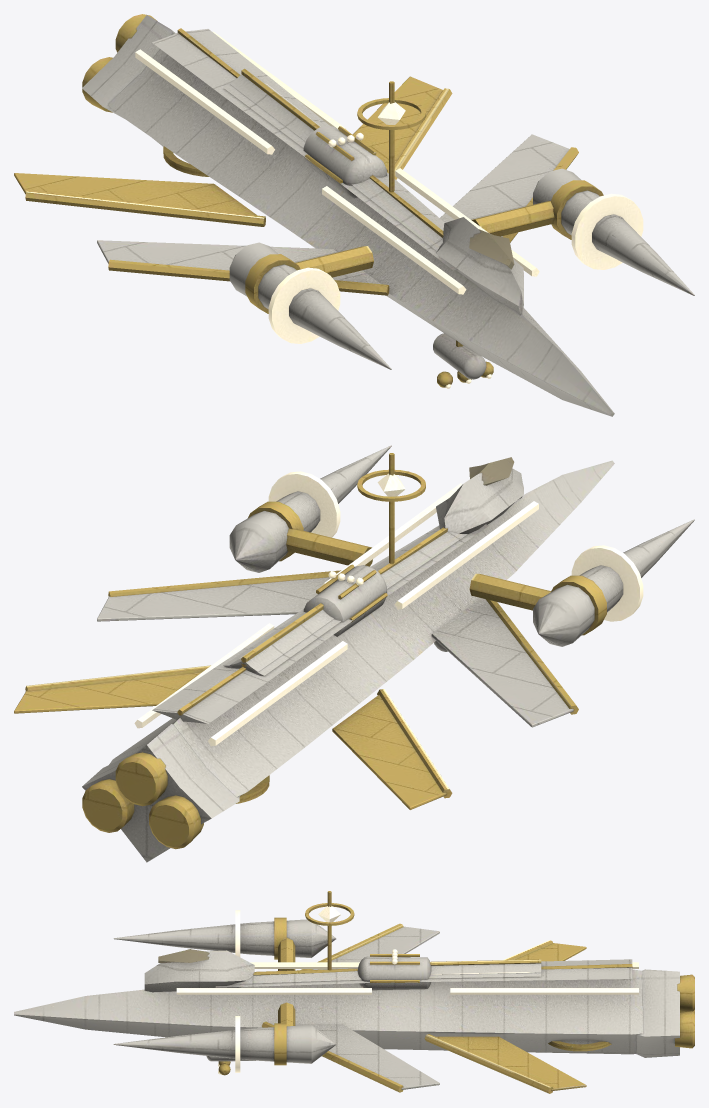
Rendered from seraphine_frigate.glb.
The picture shows the model from 3 angles, top to bottom: view 1: azimuth 30°, elevation 25°; view 2: azimuth 150°, elevation 25°; view 3: azimuth 270°, elevation 25°; orthographic projection. The views are drawn at different scales.
Parts seen in each view (by area): view 1: HULL, SYS_WPN2, SYS_WPN1, SYS_BRIDGE, SYS_DRIVE, SYS_MSL, SYS_BUS_F, SYS_BUS_A, SYS_PD, SYS_SENSORS; view 2: HULL, SYS_DRIVE, SYS_WPN2, SYS_WPN1, SYS_BRIDGE, SYS_MSL, SYS_BUS_F, SYS_BUS_A, SYS_SENSORS; view 3: HULL, SYS_WPN1, SYS_WPN2, SYS_DRIVE, SYS_BRIDGE, SYS_MSL, SYS_BUS_F, SYS_BUS_A, SYS_SENSORS, SYS_JUMP.
Part boxes in pixels (x1=…): HULL: x1=14, y1=28, x2=614, y2=416; SYS_WPN2: x1=229, y1=242, x2=391, y2=369; SYS_WPN1: x1=471, y1=168, x2=694, y2=295; SYS_BRIDGE: x1=436, y1=217, x2=523, y2=314; SYS_DRIVE: x1=82, y1=14, x2=175, y2=152; SYS_MSL: x1=303, y1=125, x2=387, y2=198; SYS_BUS_F: x1=322, y1=168, x2=539, y2=294; SYS_BUS_A: x1=135, y1=31, x2=347, y2=154; SYS_PD: x1=433, y1=333, x2=493, y2=388; SYS_SENSORS: x1=357, y1=81, x2=425, y2=191; HULL: x1=14, y1=460, x2=614, y2=809; SYS_DRIVE: x1=82, y1=724, x2=239, y2=862; SYS_WPN2: x1=469, y1=519, x2=694, y2=646; SYS_WPN1: x1=229, y1=445, x2=391, y2=572; SYS_BRIDGE: x1=436, y1=457, x2=523, y2=533; SYS_MSL: x1=303, y1=564, x2=387, y2=636; SYS_BUS_F: x1=322, y1=483, x2=538, y2=609; SYS_BUS_A: x1=134, y1=623, x2=347, y2=746; SYS_SENSORS: x1=357, y1=453, x2=425, y2=563; HULL: x1=14, y1=923, x2=643, y2=1093; SYS_WPN1: x1=113, y1=1002, x2=336, y2=1072; SYS_WPN2: x1=113, y1=910, x2=336, y2=970; SYS_DRIVE: x1=636, y1=969, x2=694, y2=1057; SYS_BRIDGE: x1=144, y1=949, x2=254, y2=992; SYS_MSL: x1=357, y1=949, x2=431, y2=990; SYS_BUS_F: x1=176, y1=962, x2=371, y2=994; SYS_BUS_A: x1=450, y1=962, x2=638, y2=994; SYS_SENSORS: x1=305, y1=891, x2=354, y2=970; SYS_JUMP: x1=548, y1=1041, x2=611, y2=1051.
Size of the model in its own units: 17.86 by 8.93 by 31.3.
1 material, 1 textured.
